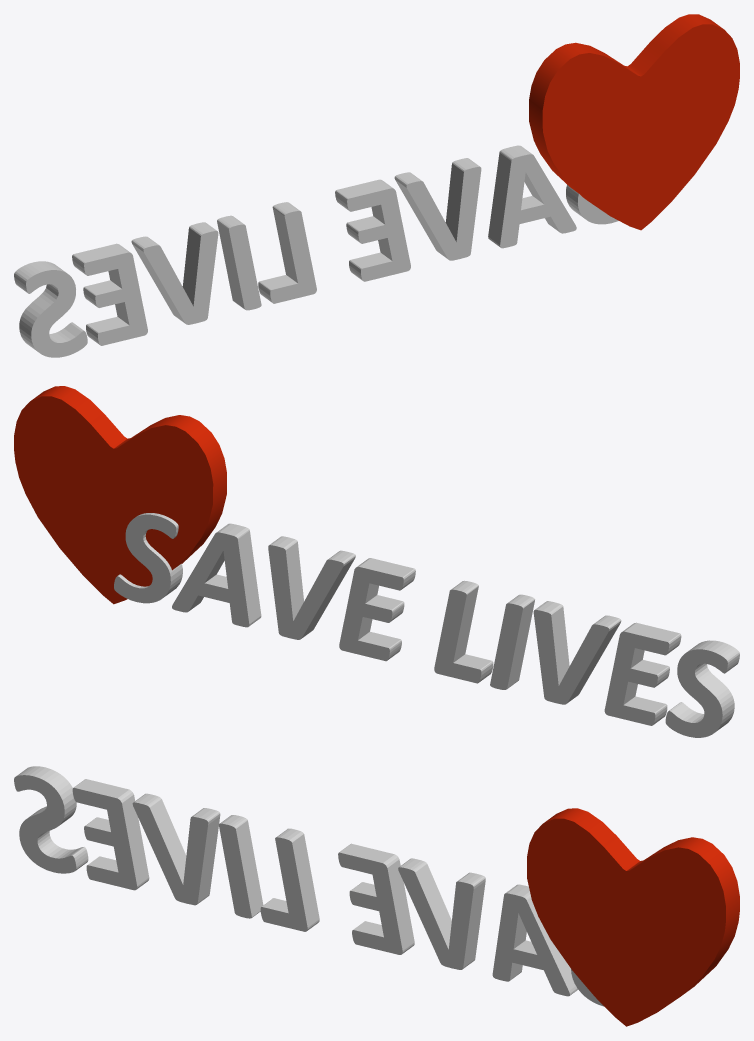
Rendered from title.fbx.
The picture shows the model from 3 angles, top to bottom: view 1: azimuth 30°, elevation 25°; view 2: azimuth 150°, elevation 25°; view 3: azimuth 330°, elevation 25°; orthographic projection.
Parts seen in each view (by area): view 1: title; view 2: title; view 3: title.
Boxes of the visible parts, <box> form: title: <box>14,14,739,357</box>; title: <box>14,386,739,737</box>; title: <box>14,766,739,1026</box>.
Size of the model in its own units: 2.47 by 0.6355 by 0.098.
